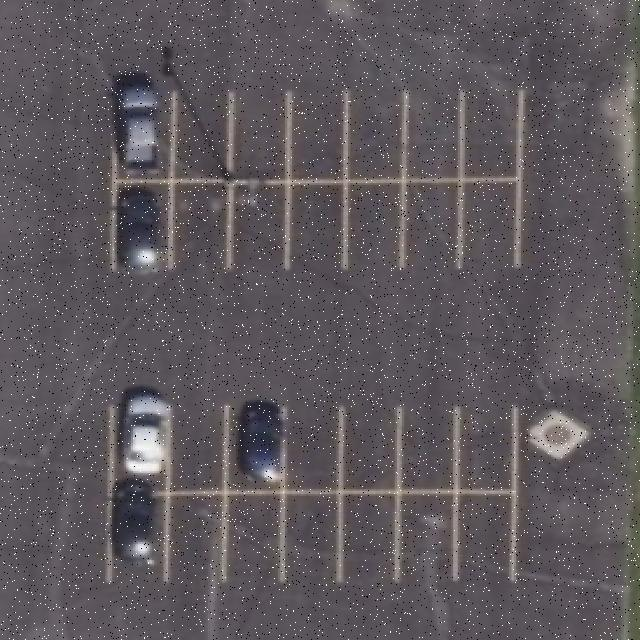Empty: (174, 91, 234, 182), (288, 91, 348, 181), (346, 91, 406, 181), (462, 90, 522, 180), (401, 180, 462, 268), (398, 493, 458, 582), (228, 182, 290, 268), (169, 182, 231, 268), (397, 406, 459, 492), (230, 92, 290, 180), (166, 494, 226, 582), (224, 492, 284, 580), (405, 91, 463, 181), (286, 182, 346, 268), (282, 405, 342, 491), (456, 405, 516, 491), (168, 404, 226, 492), (340, 492, 398, 580), (345, 182, 403, 268), (284, 492, 340, 580), (341, 408, 401, 490), (461, 182, 519, 266), (458, 492, 514, 578)
Parked: (112, 386, 170, 494), (112, 88, 176, 180), (113, 180, 171, 274), (108, 493, 168, 583), (226, 400, 284, 492)
